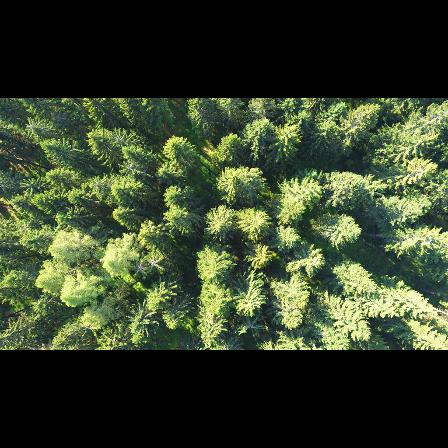Sick: (239, 314, 268, 340), (115, 157, 143, 178), (144, 252, 166, 275), (48, 108, 72, 127), (21, 116, 43, 136), (108, 128, 130, 148), (128, 258, 149, 277)
